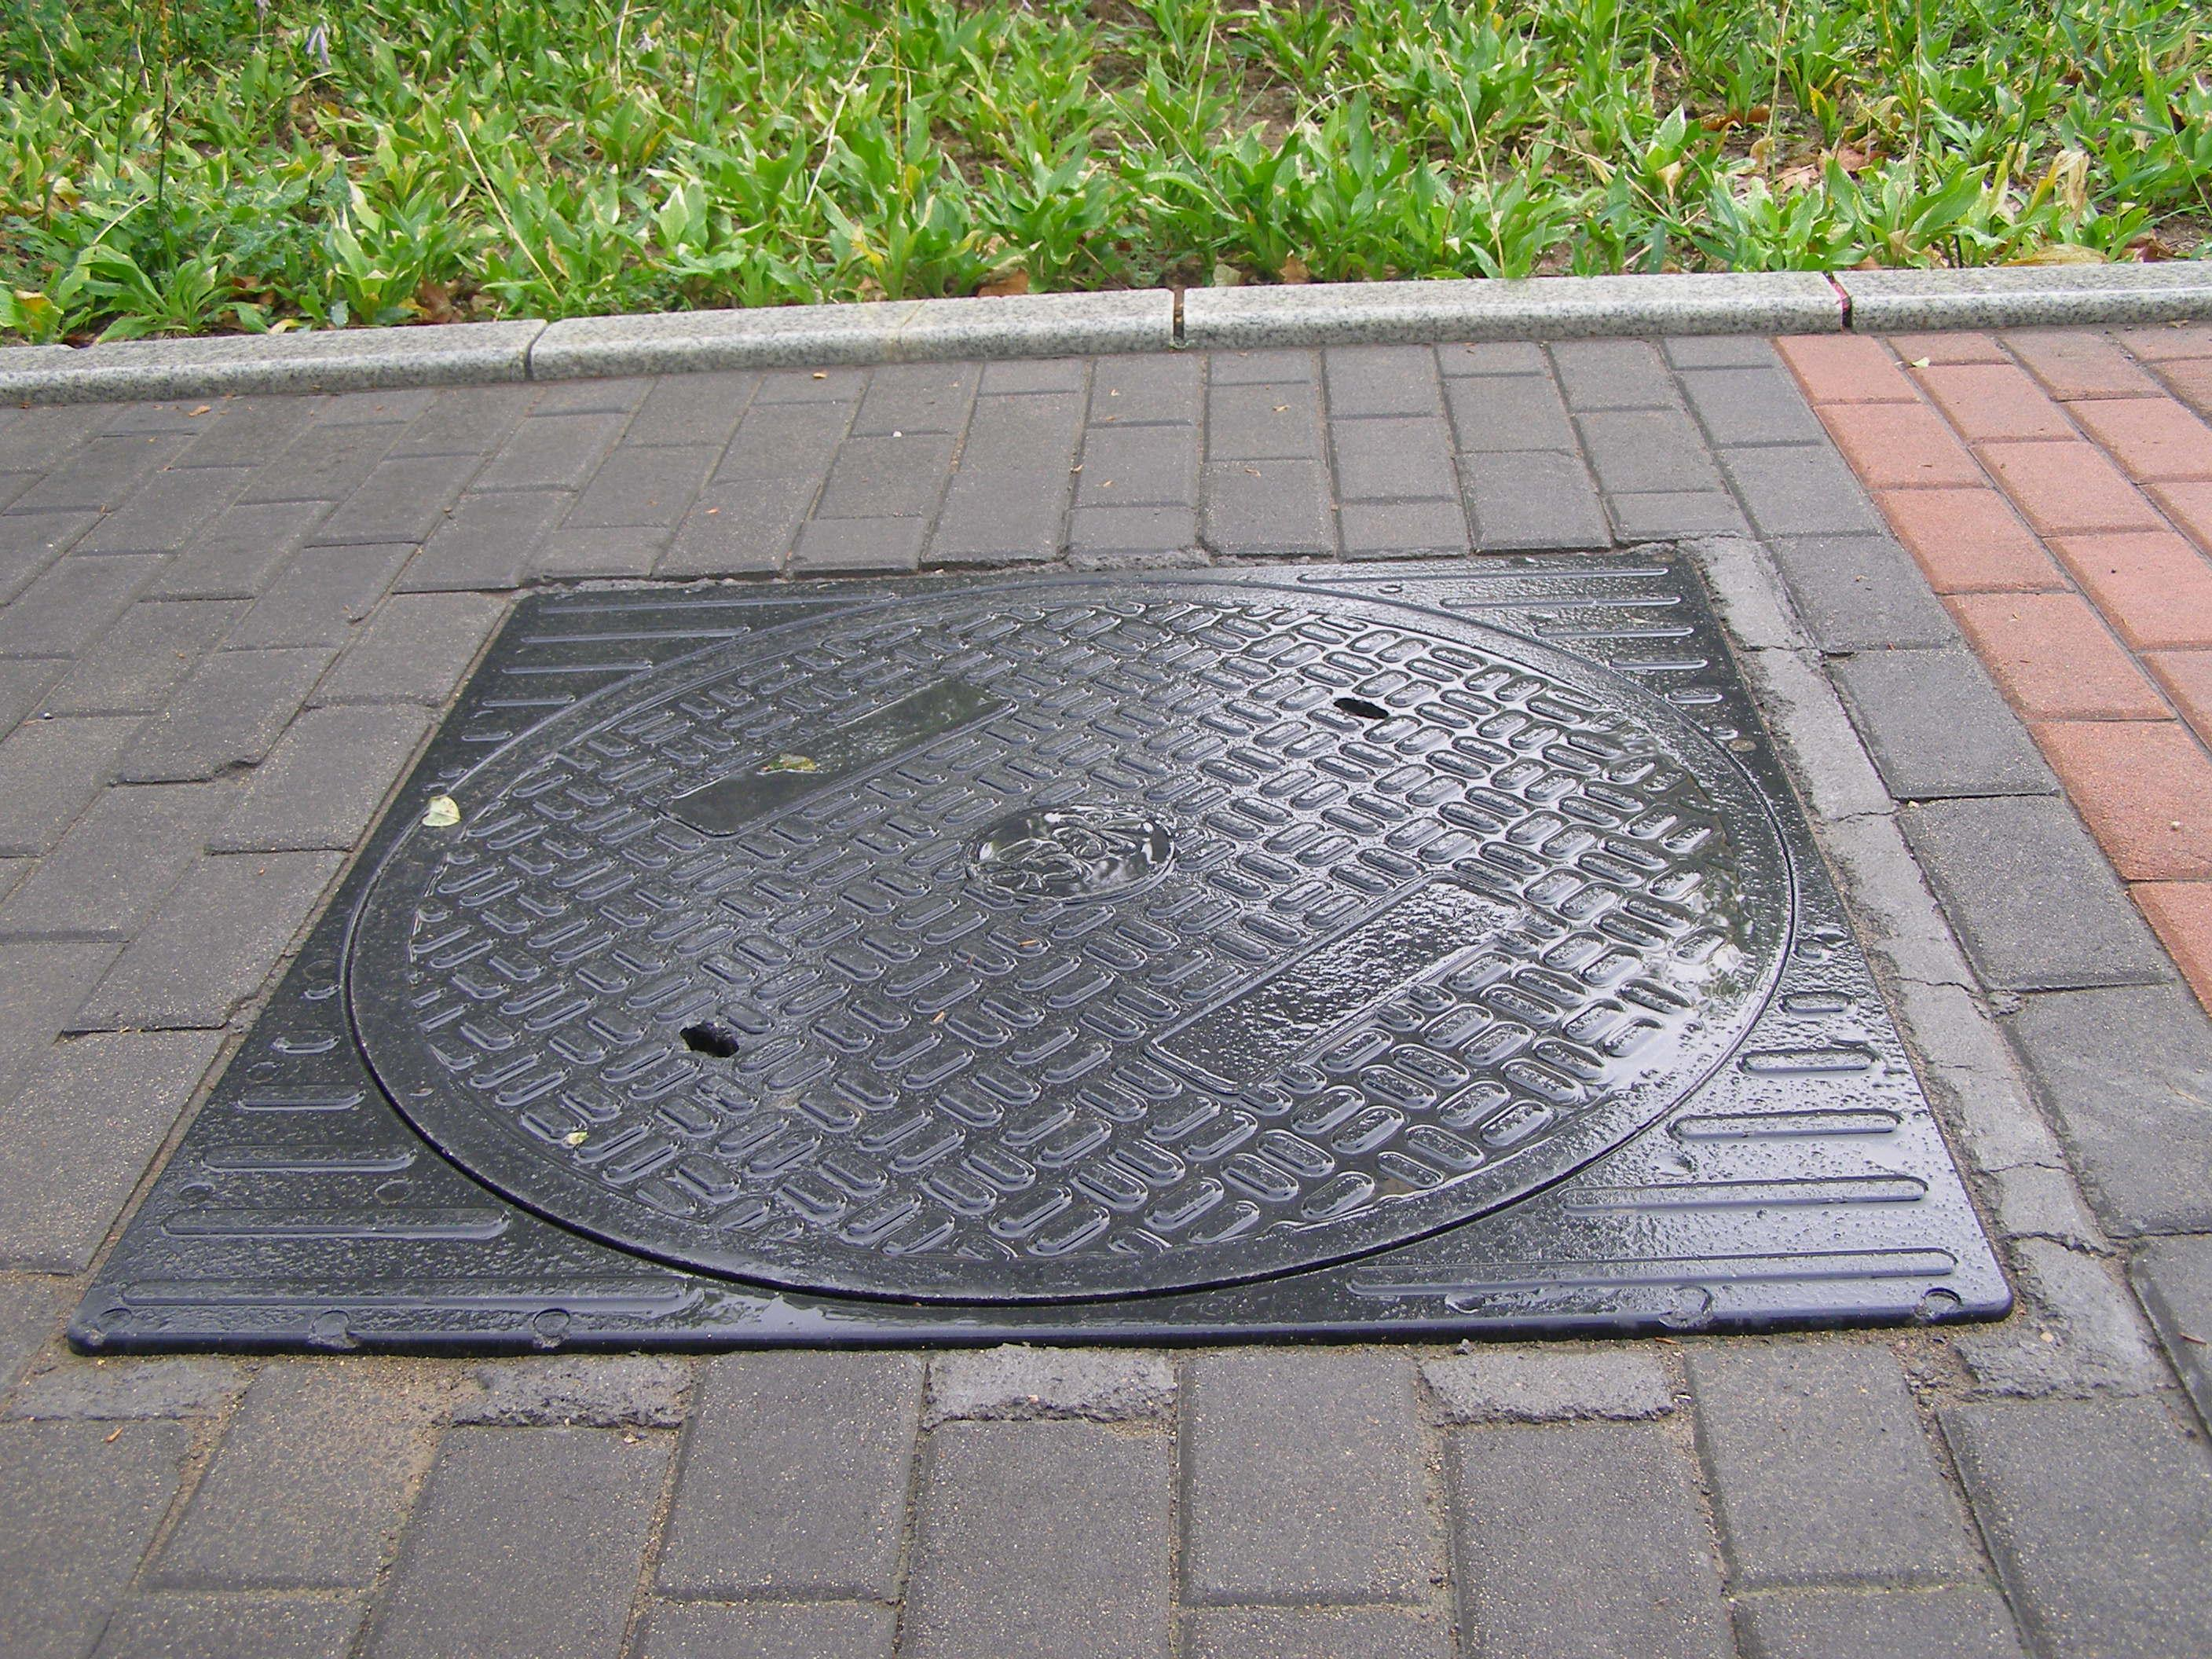wellcover: (327, 493, 1832, 1364)
